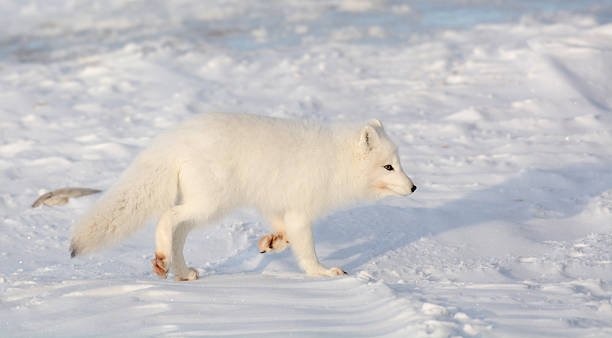arcticfox: (354, 138, 422, 211)
